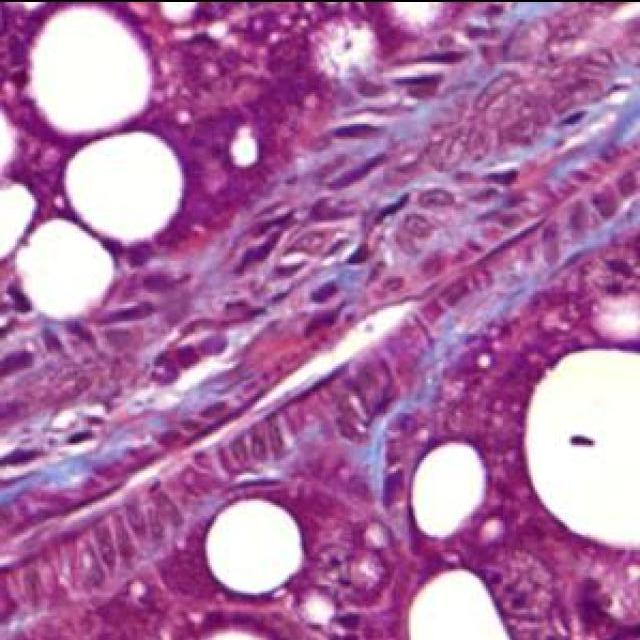steatosis: (526, 349, 640, 547), (28, 4, 151, 132), (66, 130, 184, 242), (17, 218, 115, 318), (206, 498, 304, 594), (409, 569, 511, 640), (412, 441, 486, 538), (0, 182, 36, 258)
